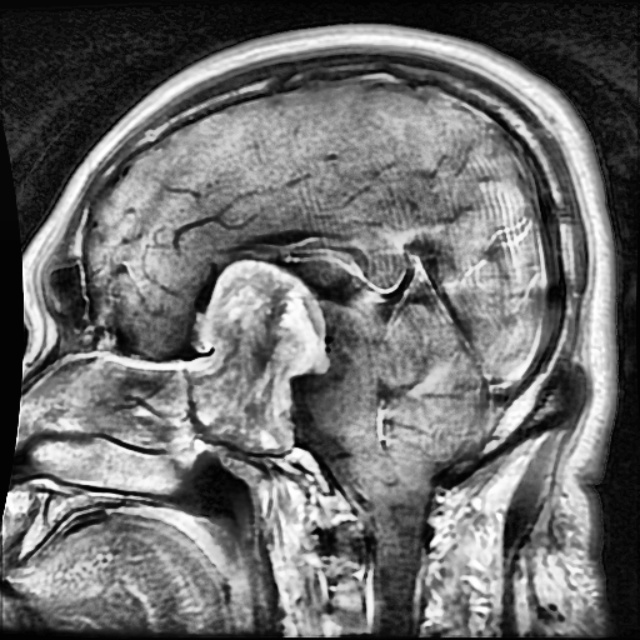Pituitary: (187, 262, 330, 449)
